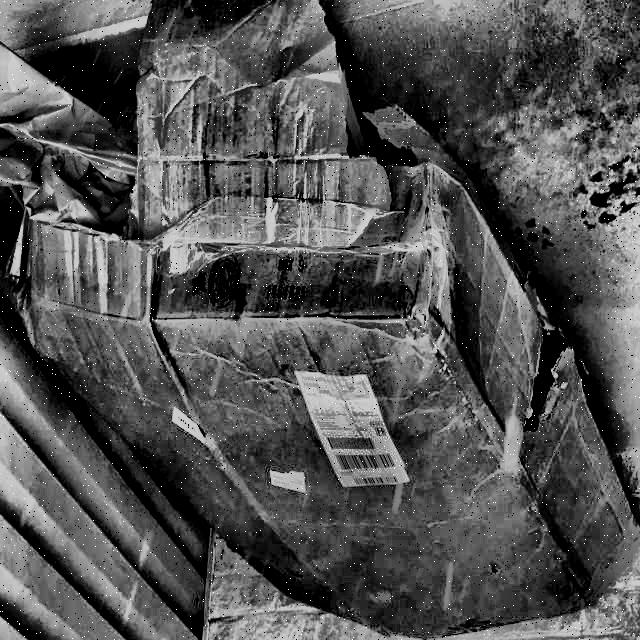box: (1, 1, 640, 639)
hole: (13, 39, 451, 271), (522, 322, 578, 439)
